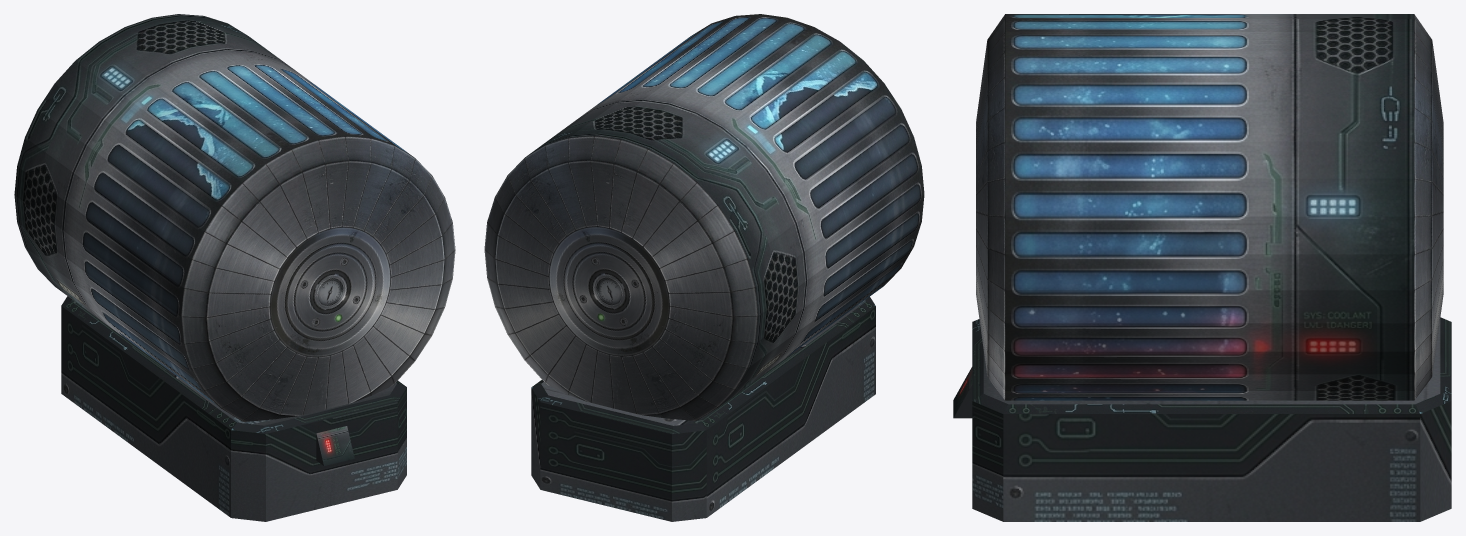
File: coolingtanklarge.glb
The picture shows the model from 3 angles, left to right: view 1: azimuth 30°, elevation 25°; view 2: azimuth 150°, elevation 25°; view 3: azimuth 270°, elevation 25°; orthographic projection. The views are drawn at different scales.
Parts seen in each view (by area): view 1: CoolingTankLargeFluidContainer, CoolingTankLargeBase; view 2: CoolingTankLargeFluidContainer, CoolingTankLargeBase; view 3: CoolingTankLargeFluidContainer, CoolingTankLargeBase.
Boxes of the visible parts, box(x1,y1,x2,y2) form: CoolingTankLargeFluidContainer: box(14, 14, 455, 421); CoolingTankLargeBase: box(61, 296, 406, 521); CoolingTankLargeFluidContainer: box(484, 14, 924, 420); CoolingTankLargeBase: box(531, 296, 875, 521); CoolingTankLargeFluidContainer: box(976, 14, 1443, 400); CoolingTankLargeBase: box(953, 317, 1451, 521).
Bounding box in the file's own units: 3.03 × 3.75 × 3.87.
Materials: 1 (1 with a texture image).
